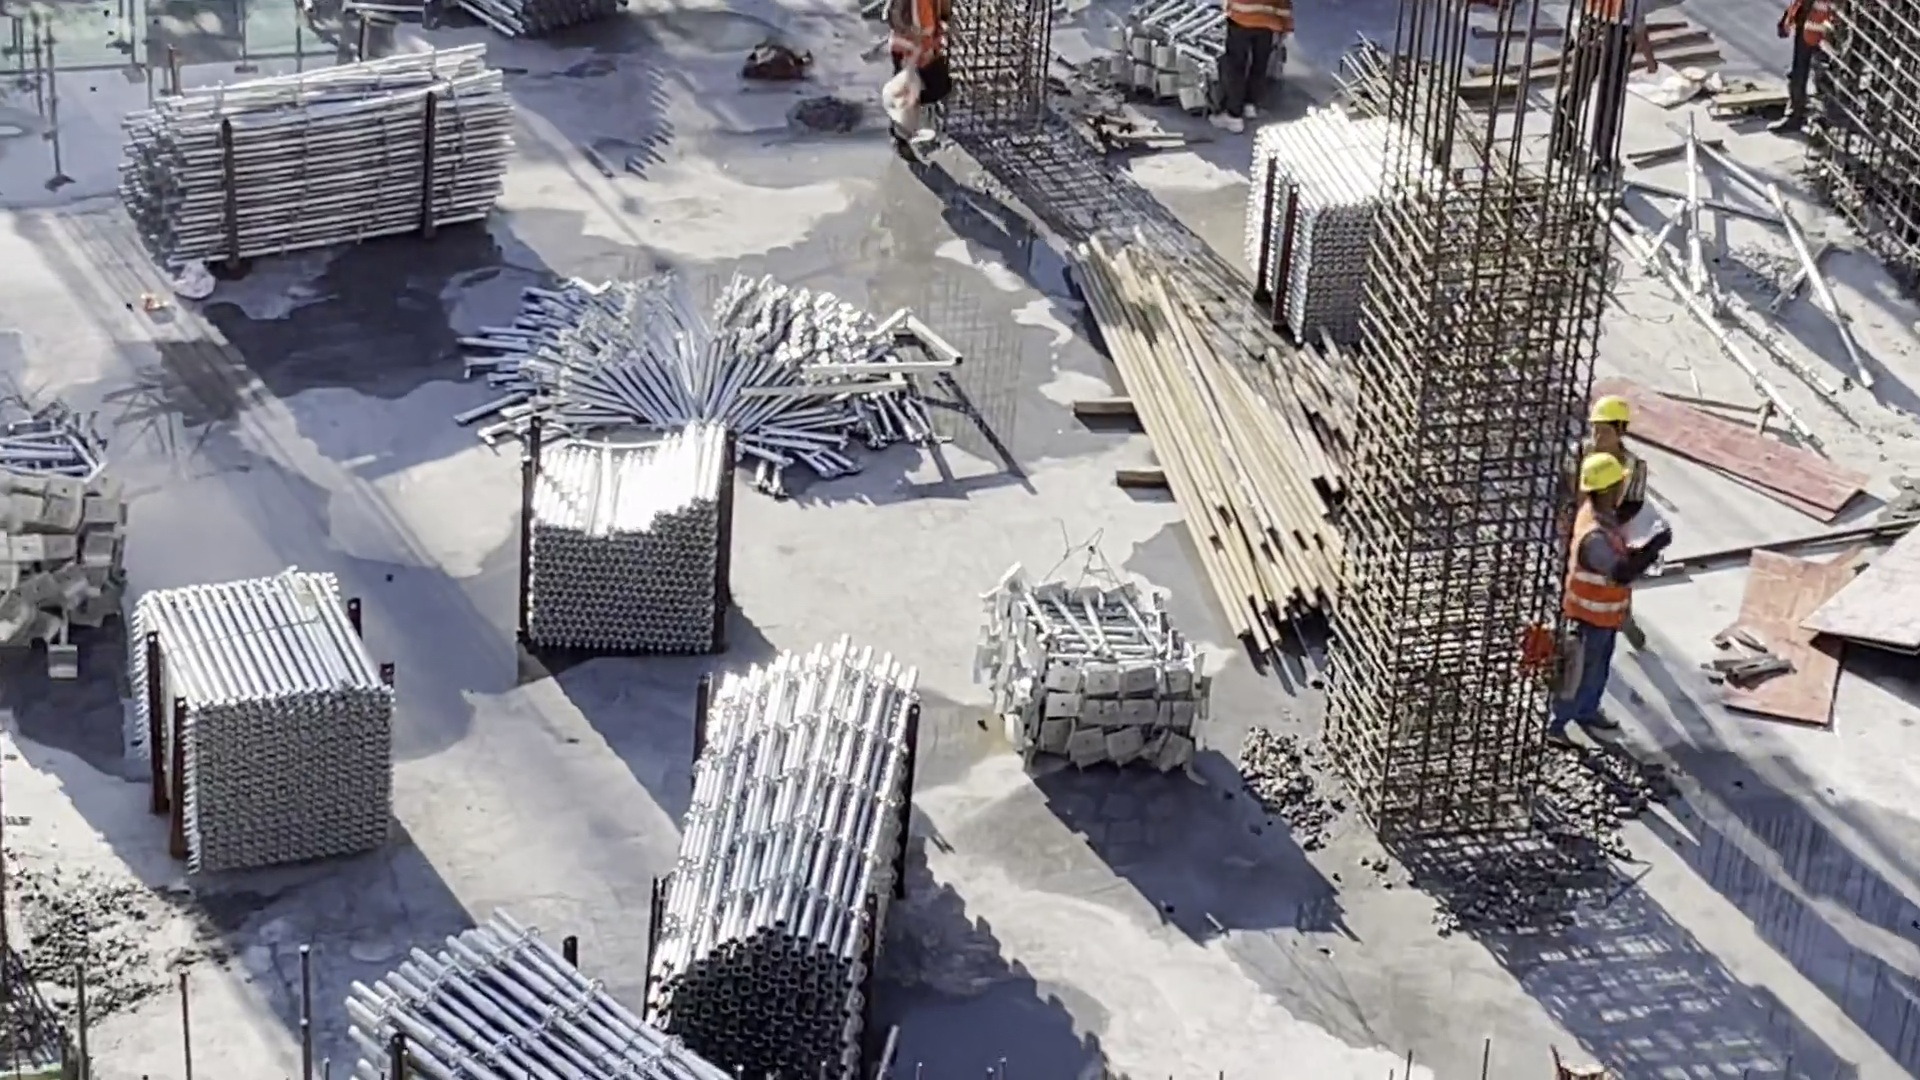helmet: (1585, 454, 1626, 493), (1591, 395, 1633, 423)
person: (1570, 457, 1636, 746), (1774, 1, 1855, 150), (1577, 1, 1637, 183), (881, 2, 964, 131), (1584, 387, 1659, 527), (1204, 1, 1281, 128)
vest: (1570, 513, 1629, 626), (899, 1, 948, 67), (1575, 1, 1632, 49), (1224, 1, 1291, 38), (1785, 2, 1838, 49)
